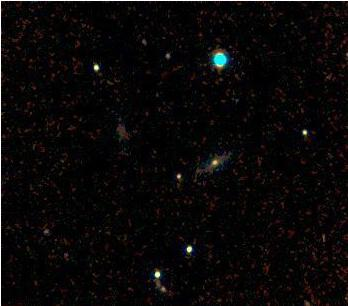star: (140, 261, 170, 291)
